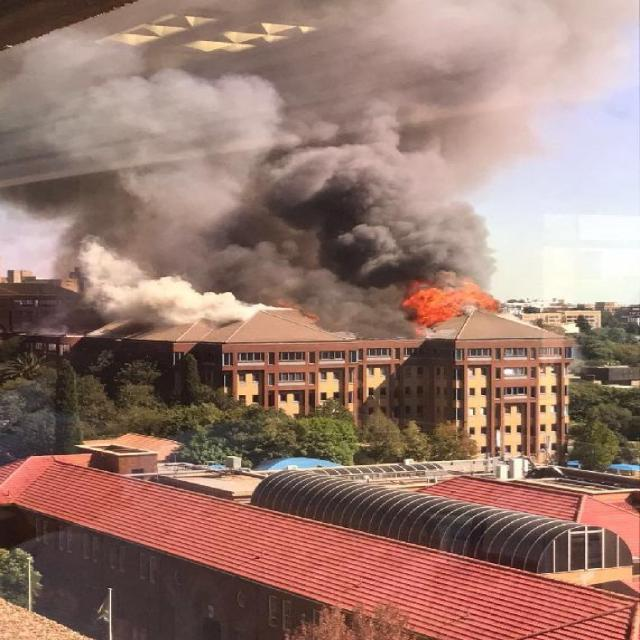Fire: (393, 277, 512, 339)
